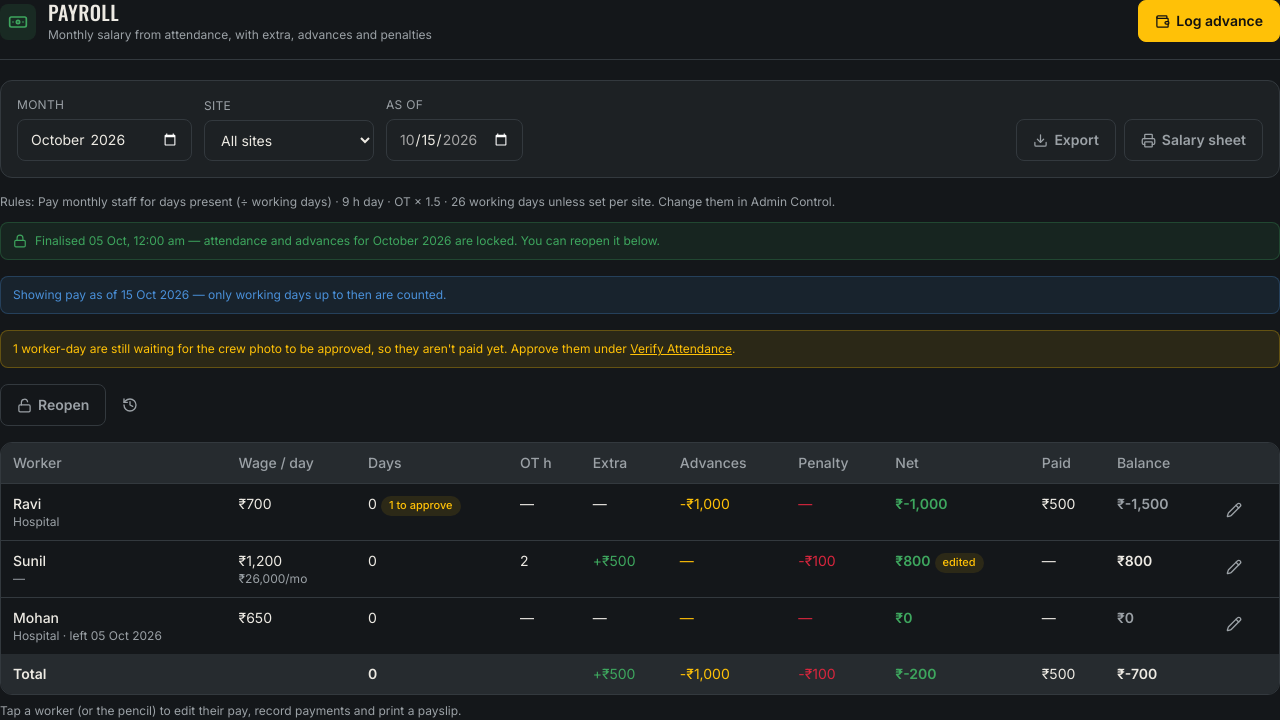
Test case: interactive paths render › Payroll computes rows and opens the pay editor
The image size is (1280, 720).
Step 1. Click the button titled "Edit pay" in the row of "Ravi" → [1234, 510], box [1218,494,1250,526]
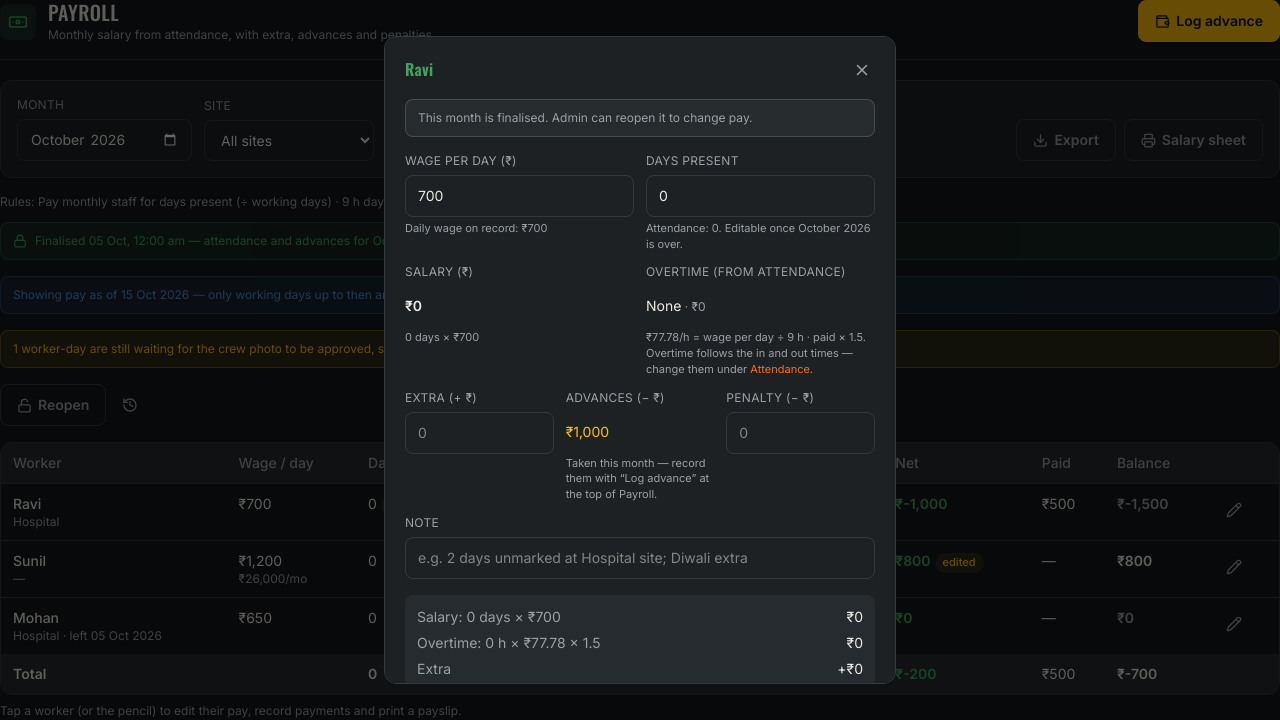
Expected: the text "Wage per day" is shown, [405,153,517,168]
